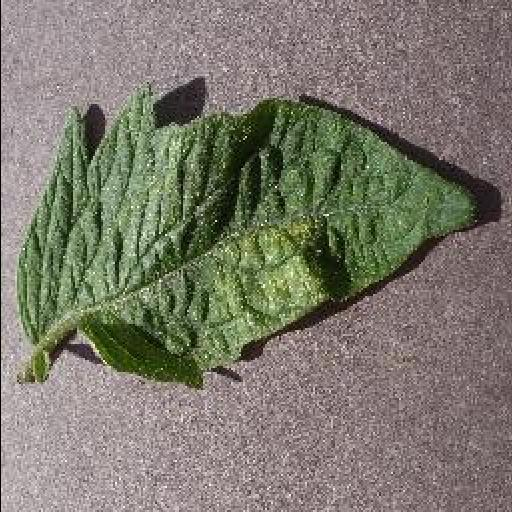disease_tomato: (18, 90, 498, 388)
